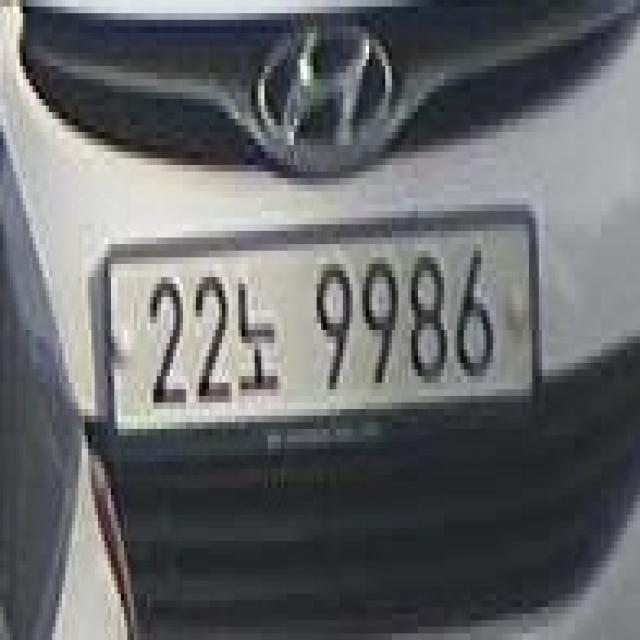2: (142, 272, 191, 409), (191, 264, 237, 407)
6: (454, 237, 504, 393)
8: (409, 246, 453, 394)
9: (312, 253, 357, 400), (361, 250, 405, 396)
license_plate: (108, 218, 534, 435)
no: (235, 269, 289, 404)
